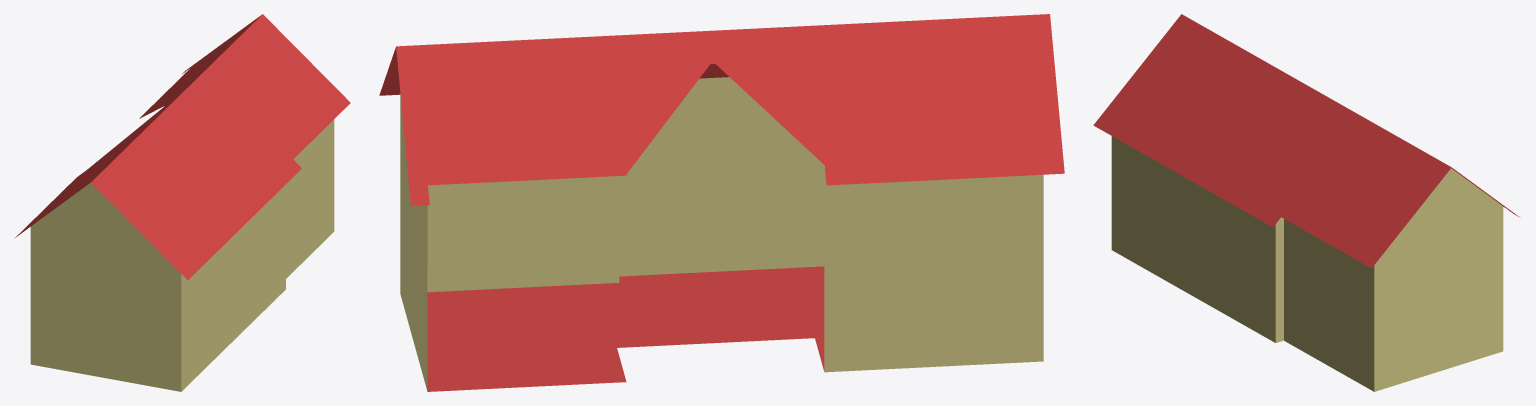
The picture shows the model from 3 angles, left to right: view 1: azimuth 30°, elevation 25°; view 2: azimuth 150°, elevation 25°; view 3: azimuth 270°, elevation 25°; orthographic projection. The views are drawn at different scales.
Bounding box in the file's own units: 27.3 × 24.64 × 13.14.
